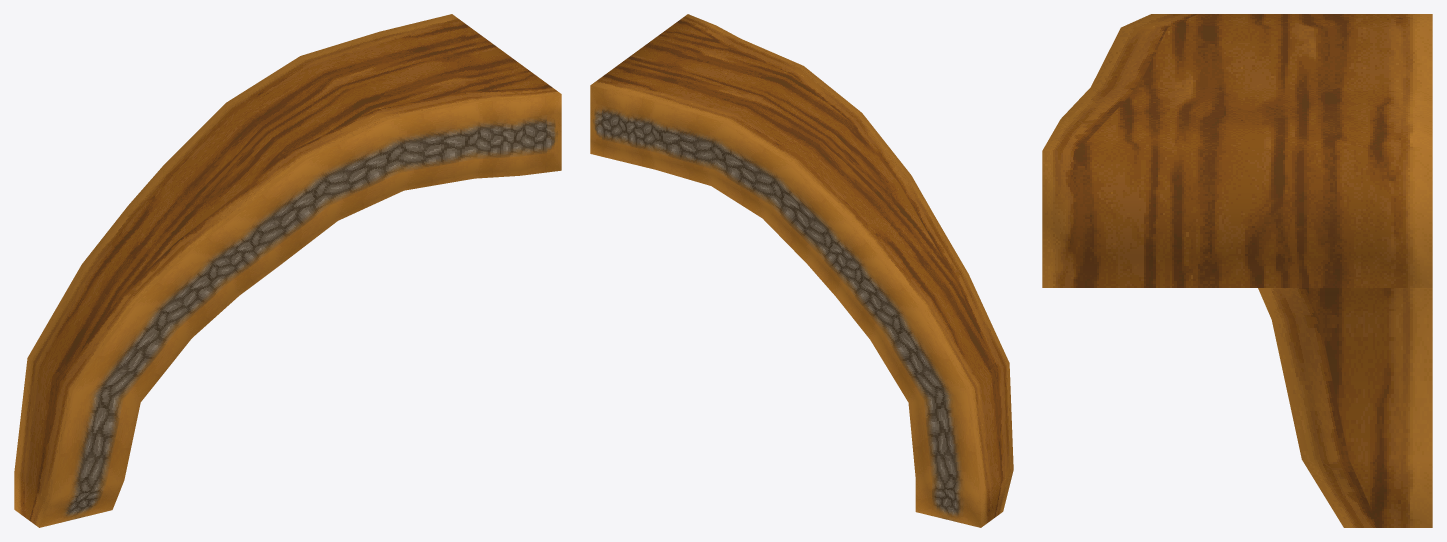
The model's file is SM_AP_CanyonWall_Bend_Ramp_0.glb.
The picture shows the model from 3 angles, left to right: view 1: azimuth 30°, elevation 25°; view 2: azimuth 150°, elevation 25°; view 3: azimuth 270°, elevation 25°; orthographic projection. The views are drawn at different scales.
Visible parts, largest first — view 1: SM_AP_CanyonWall_Bend_Ramp_0; view 2: SM_AP_CanyonWall_Bend_Ramp_0; view 3: SM_AP_CanyonWall_Bend_Ramp_0.
Boxes of the visible parts, x1,y1,x2,y2 form: SM_AP_CanyonWall_Bend_Ramp_0: [14, 14, 561, 527]; SM_AP_CanyonWall_Bend_Ramp_0: [590, 14, 1013, 527]; SM_AP_CanyonWall_Bend_Ramp_0: [1042, 14, 1432, 527].
Bounding box in the file's own units: 47.82 × 40.61 × 20.7.
1 material, 1 textured.
